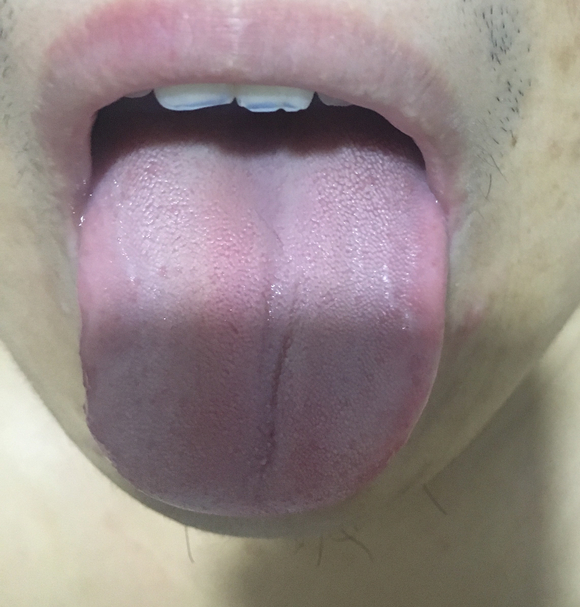baitaishe: (77, 127, 448, 515)
chihenshe: (78, 303, 119, 475)
liewenshe: (264, 333, 291, 472)
